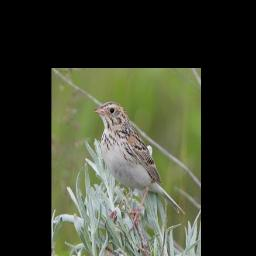Sparrow: (94, 99, 186, 234)
